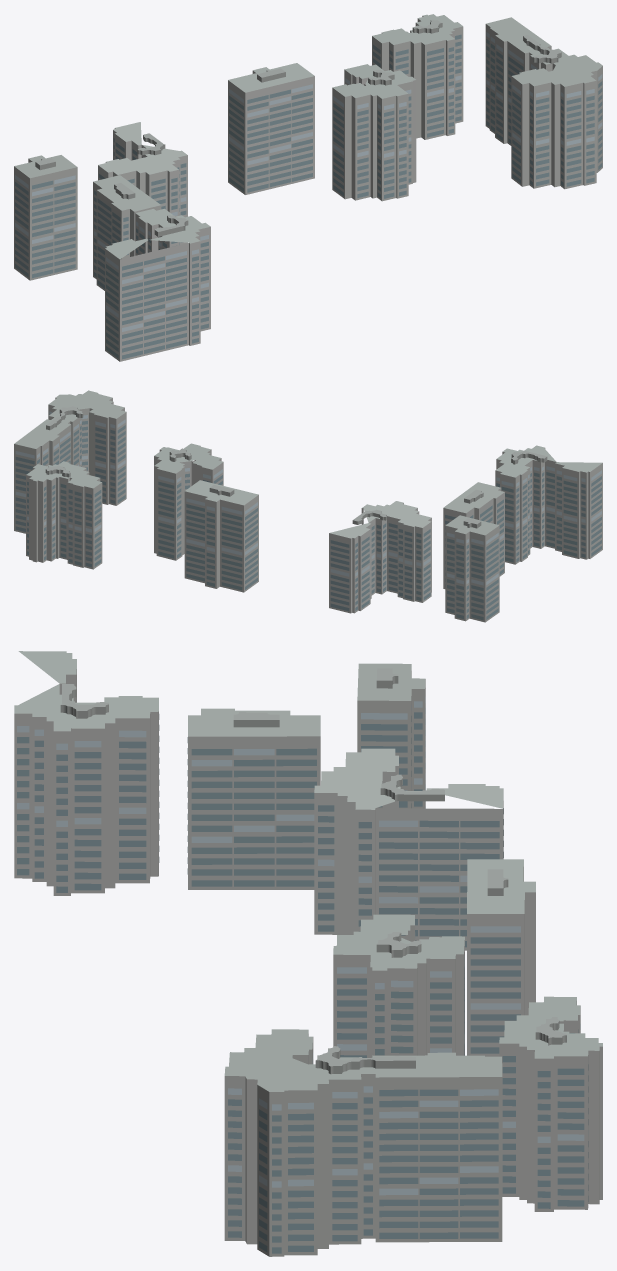
The model's file is apt-a13009003.glb.
The picture shows the model from 3 angles, top to bottom: view 1: azimuth 30°, elevation 25°; view 2: azimuth 150°, elevation 25°; view 3: azimuth 270°, elevation 25°; orthographic projection. The views are drawn at different scales.
Visible parts, largest first — view 1: apt-a13009003; view 2: apt-a13009003; view 3: apt-a13009003.
Boxes of the visible parts, x1=… form: apt-a13009003: x1=14, y1=14, x2=602, y2=361; apt-a13009003: x1=14, y1=390, x2=602, y2=622; apt-a13009003: x1=14, y1=651, x2=602, y2=1256.
Bounding box in the file's own units: 236 × 43 × 133.
